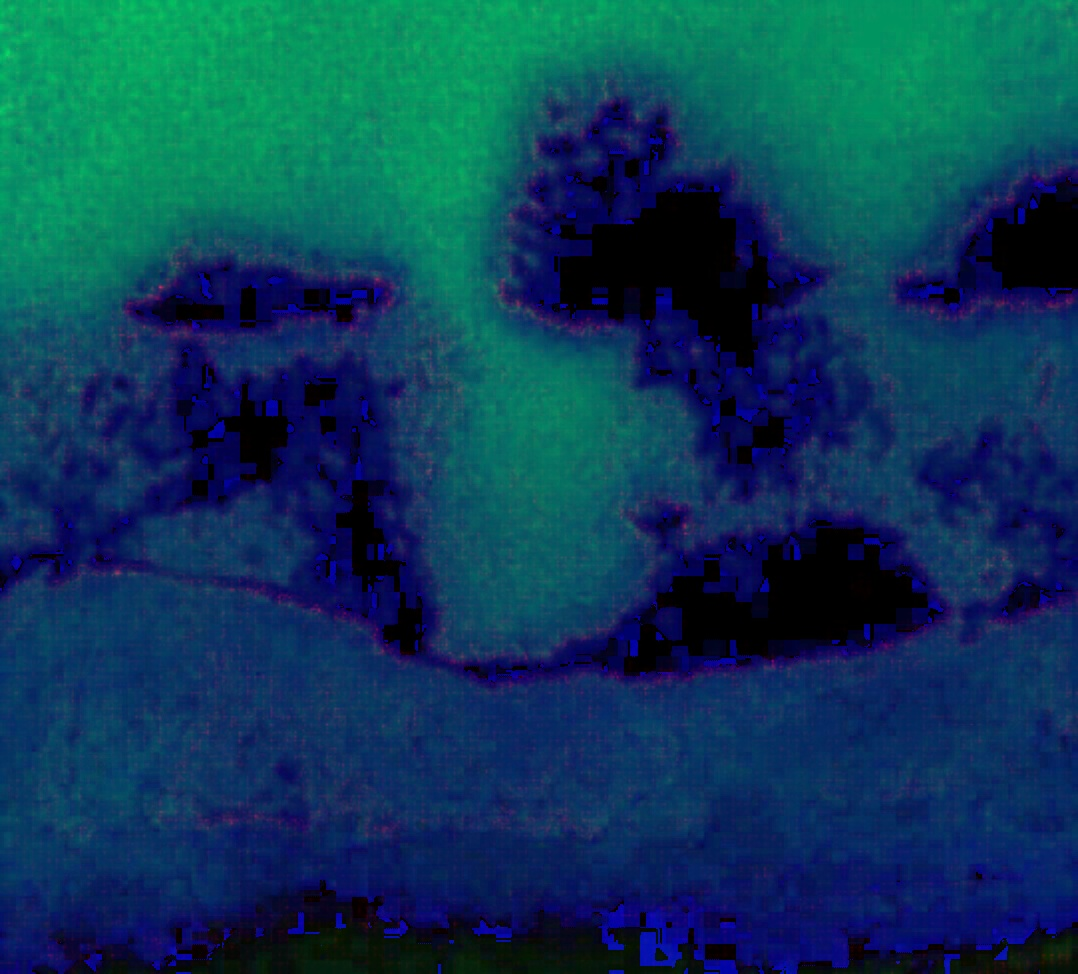rip_current: (296, 172, 740, 703)
